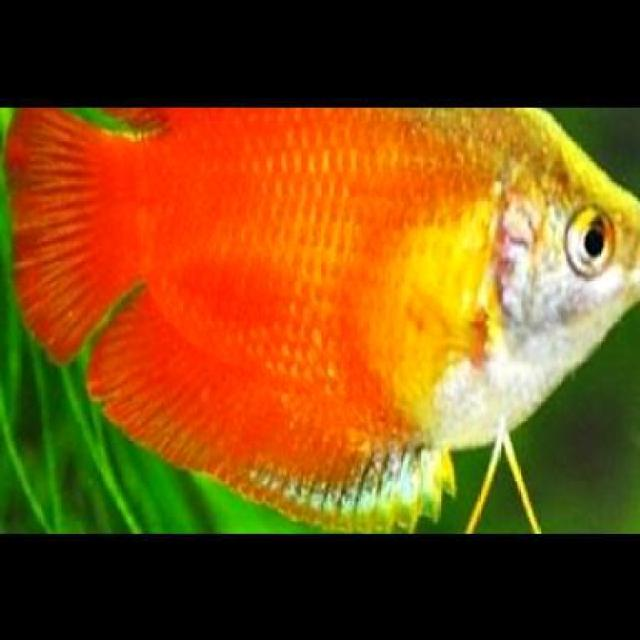Gourami: (1, 104, 638, 536)
